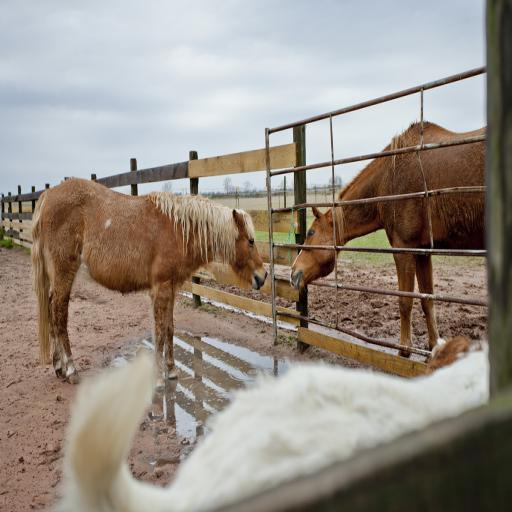horse: (58, 346, 490, 512), (28, 178, 270, 386), (286, 114, 488, 358)
